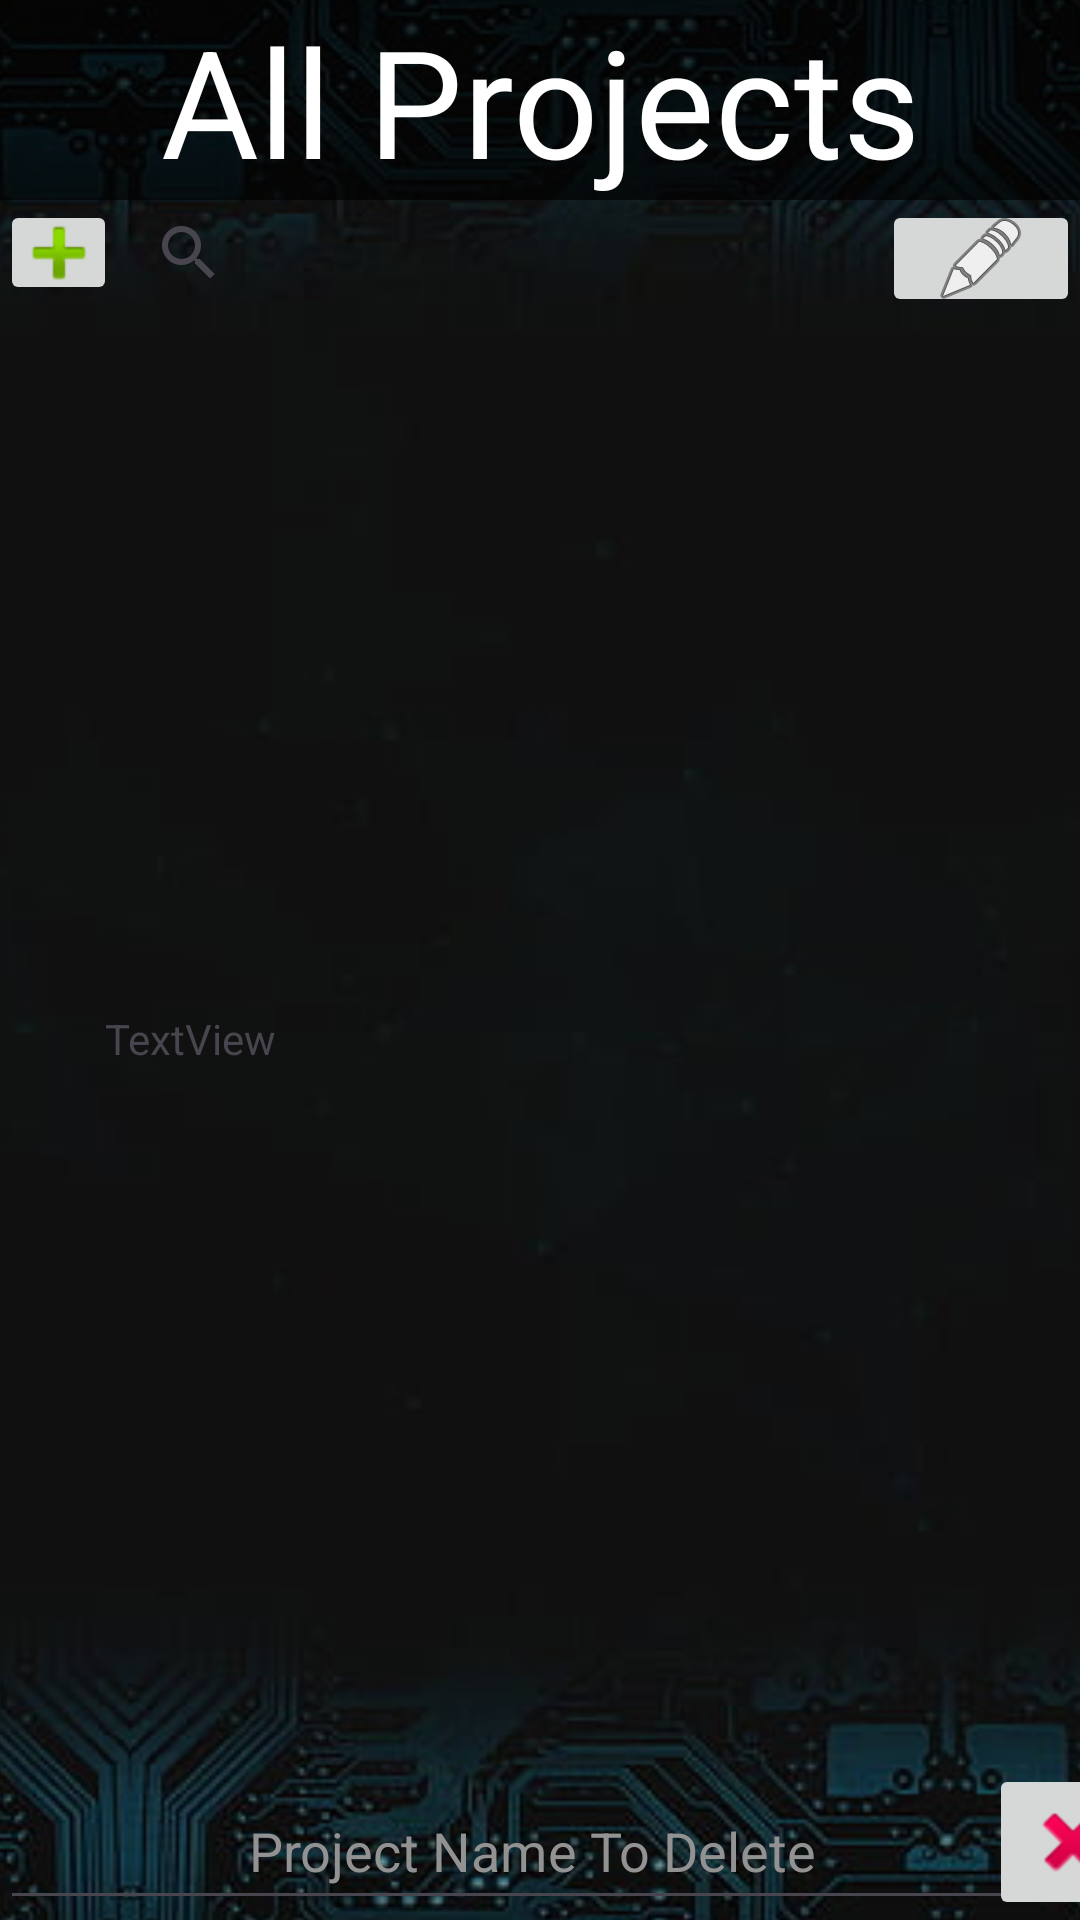

Point at icon controls on the screen. Image size 1080w x 1920h, points as point (x, y).
add: point (58, 252)
edit: point (980, 249)
